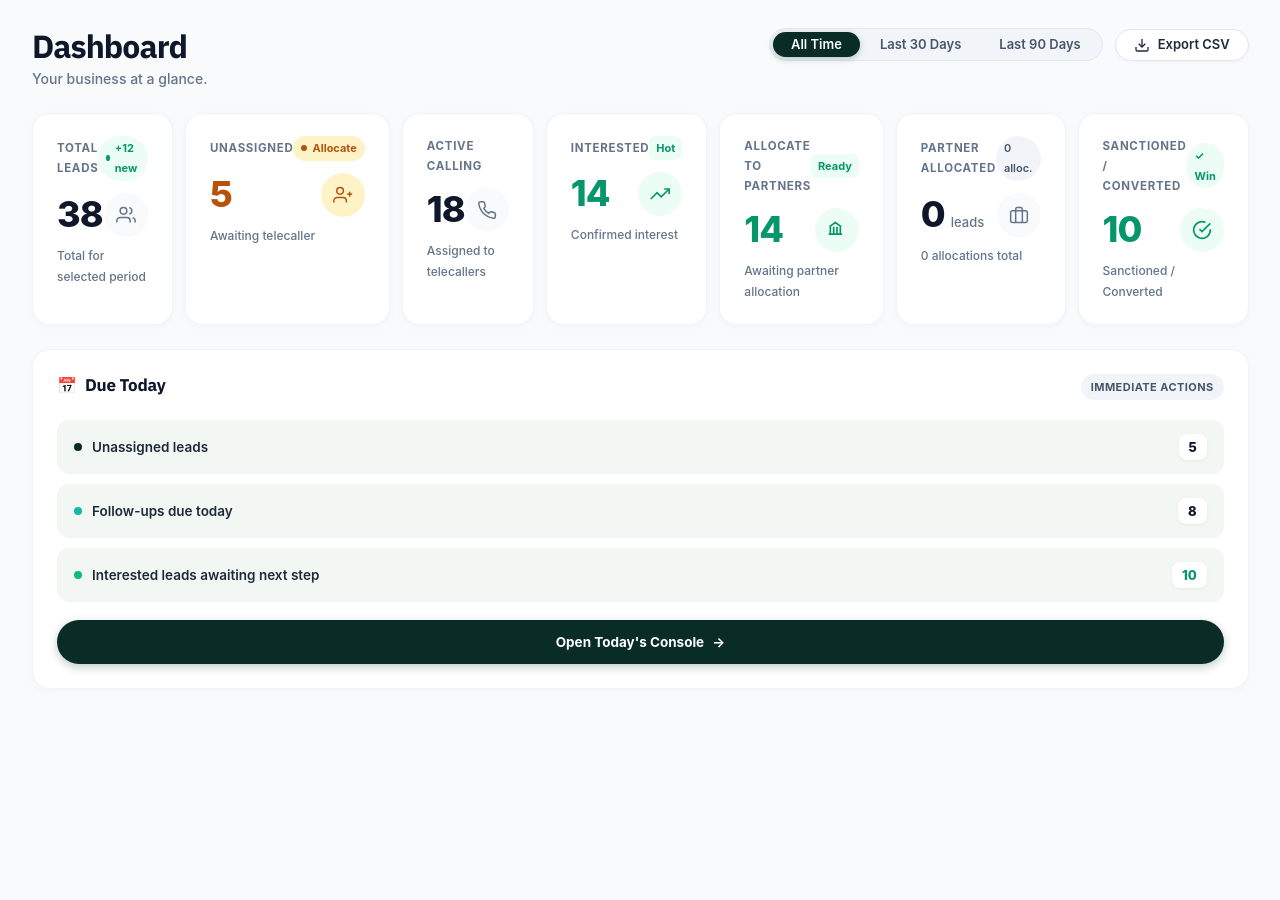
Test: DSA OS — Clickable Dashboard & Lead Management Journey › clicking Due Today Interested awaiting next step row opens corresponding view
What coordinates should you click on to do the following:
click the button with test id "due-row-interested"
I would click on:
 (206, 575)
Its box is [57,548,1224,602].
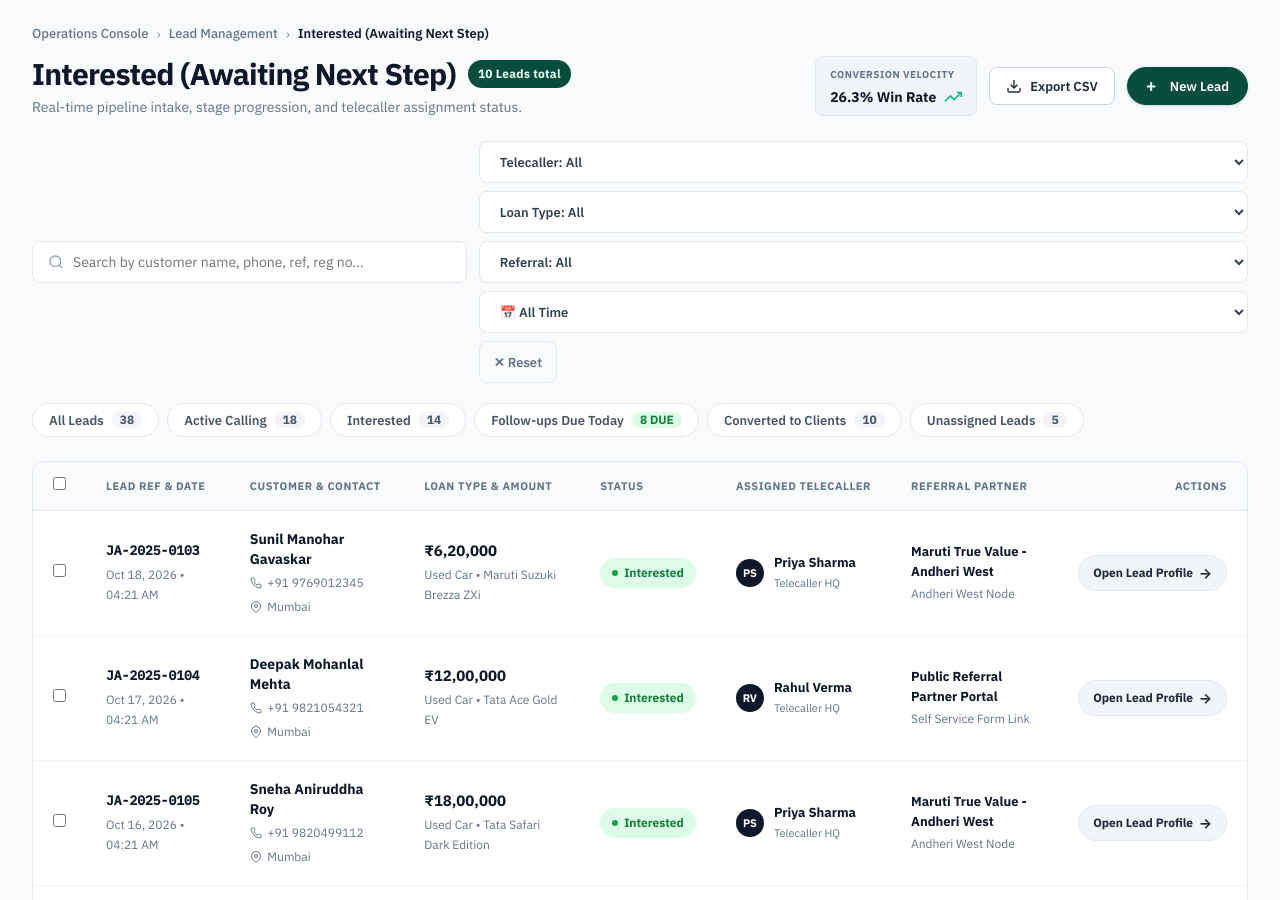
Now the heading "Interested (Awaiting Next Step)" is shown, box [32,56,456,92]
